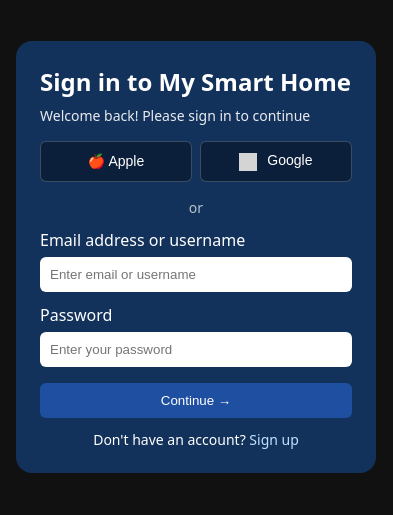
Scenario: Login Component › Form Validation › shows error when submitting with empty password
The image size is (393, 515).
In the field with placeholder "Enter email or username": (196, 274) [40,257,352,292], type "test@example.com"
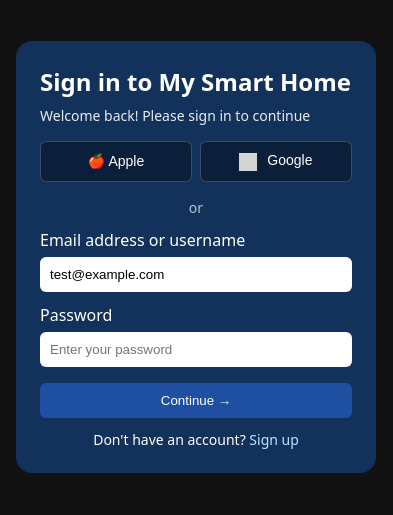
Click the button "Continue →": click(196, 400) [40,383,352,418]
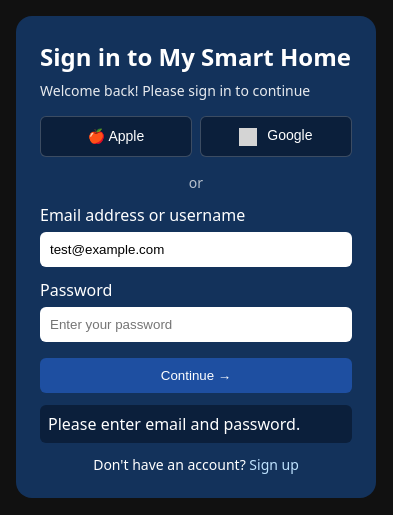
expect the text "Please enter email and password." is shown: met, box [40,405,352,443]
